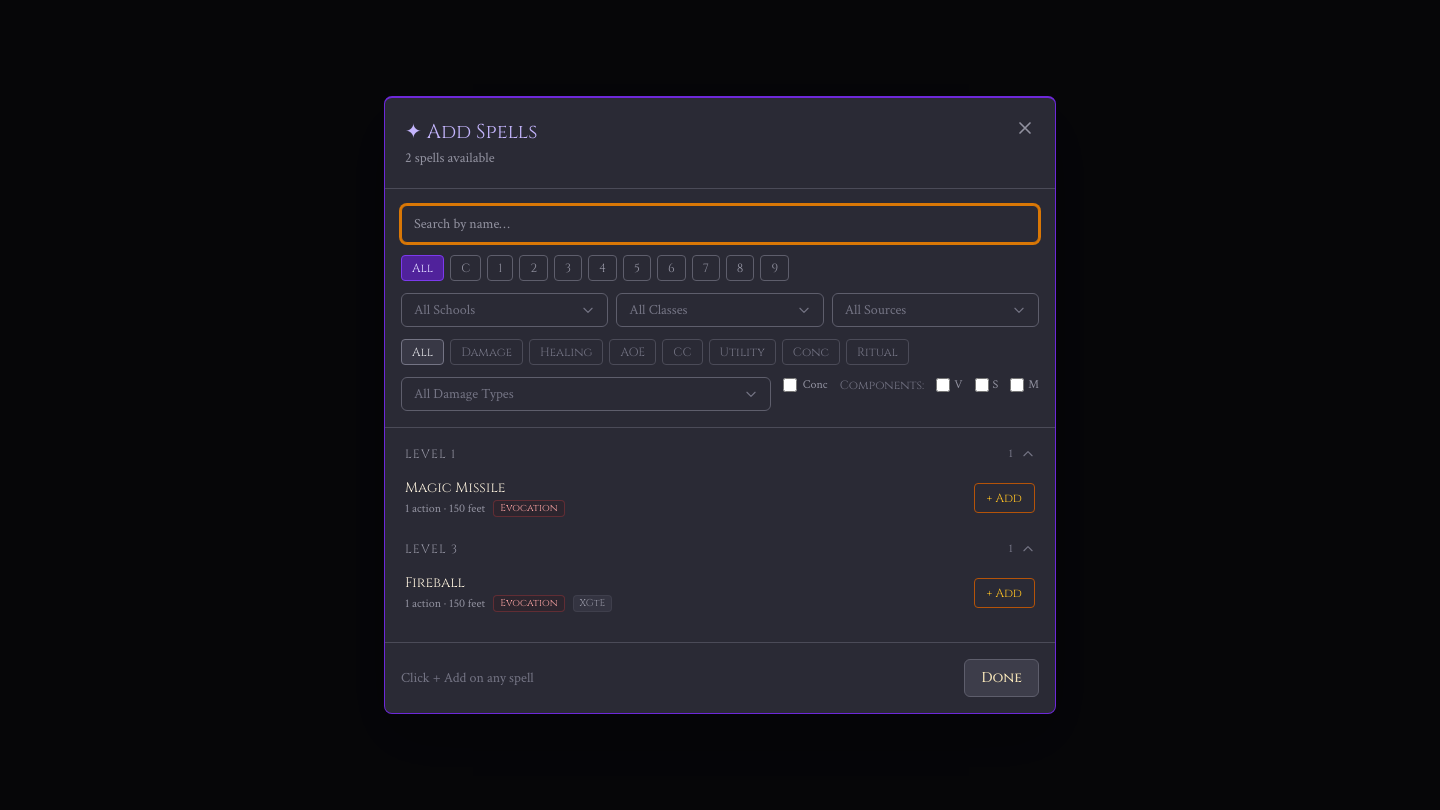
AddSpellPicker › level filter › clicking All resets the level filter
Step 1. Click the button "1" → (500,268), box [487,255,513,281]
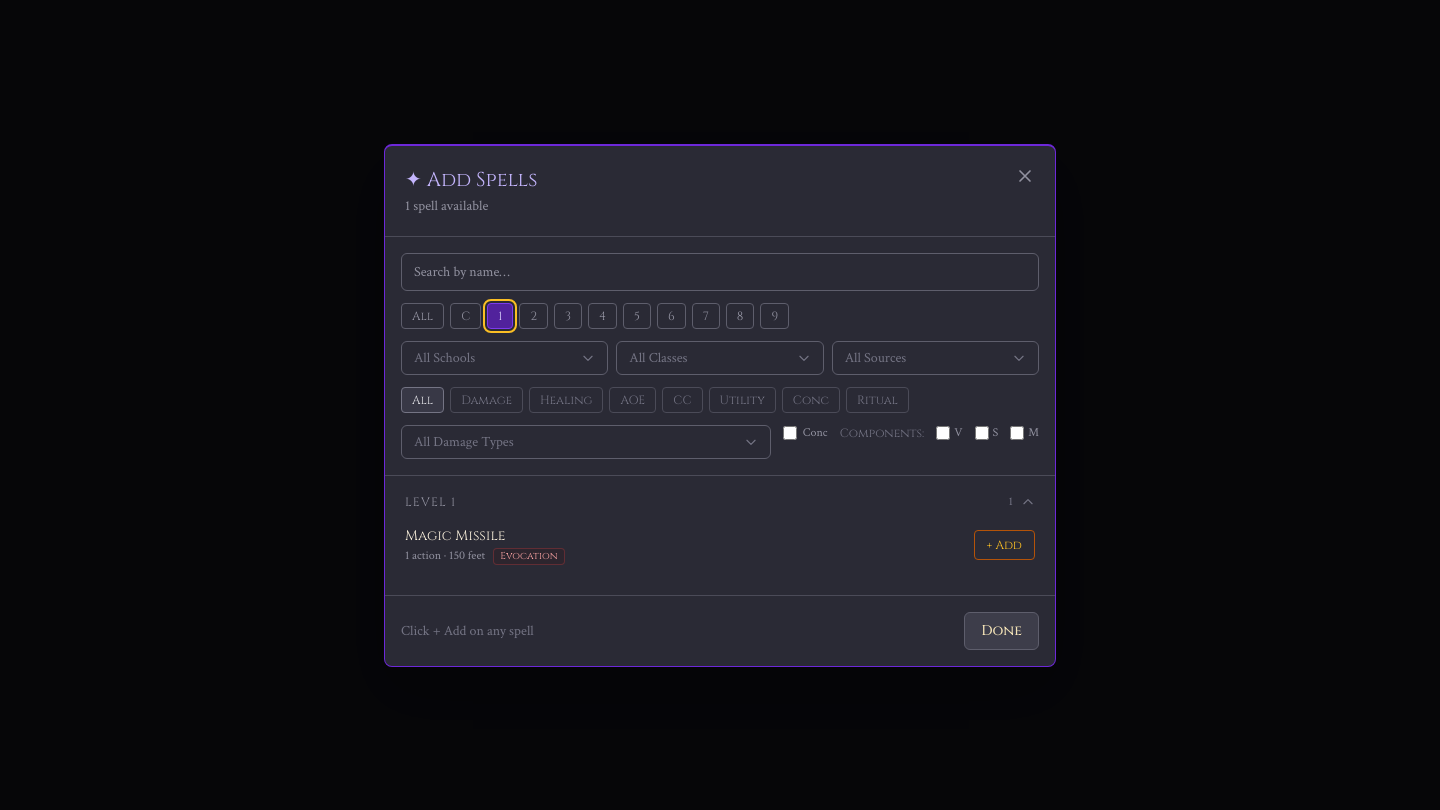
Step 2. Click the button with aria-label "all levels" → (423,316), box [401,302,444,328]
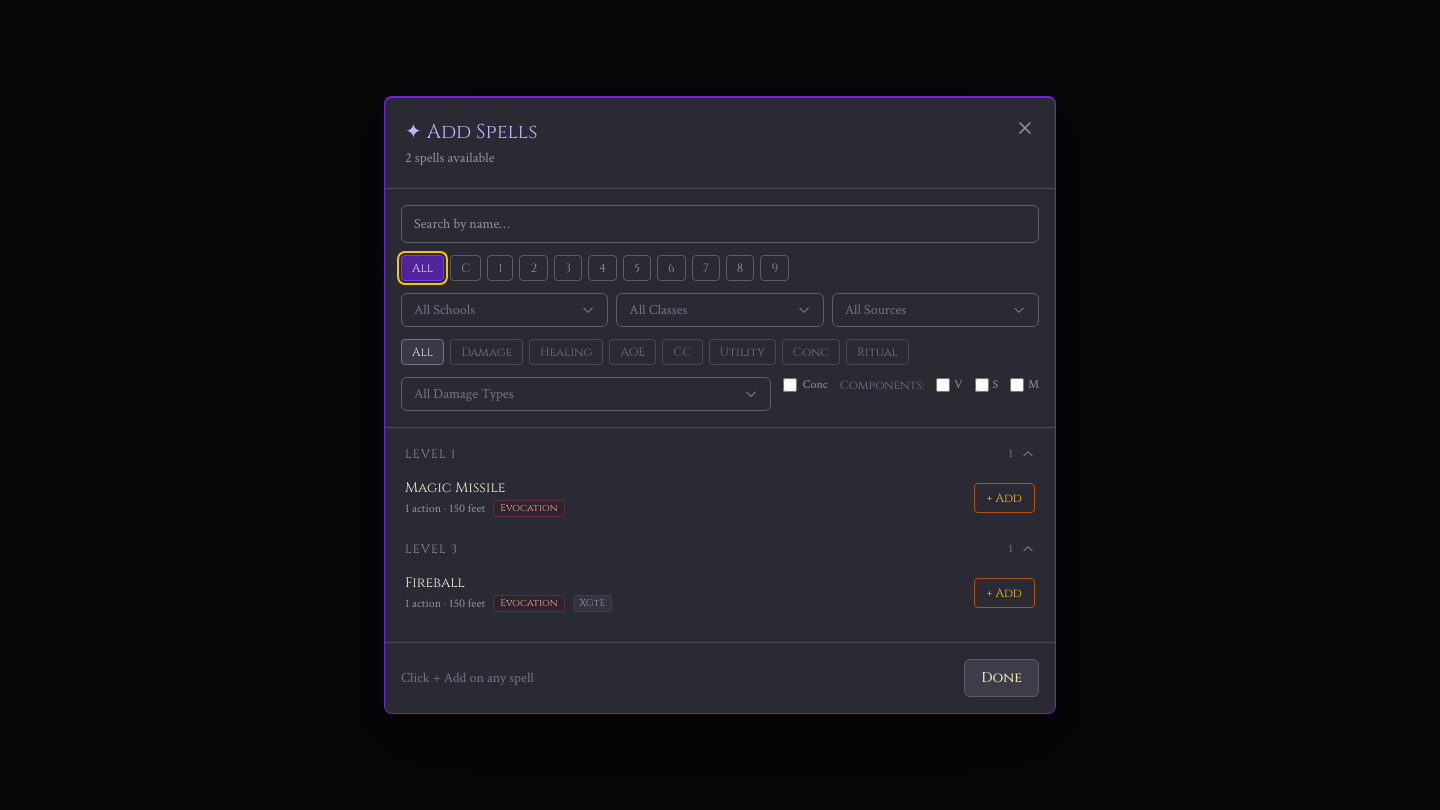
Expected: the text "Magic Missile" is shown, [405,478,505,498]
Expected: the text "Fireball" is shown, [405,573,465,593]
